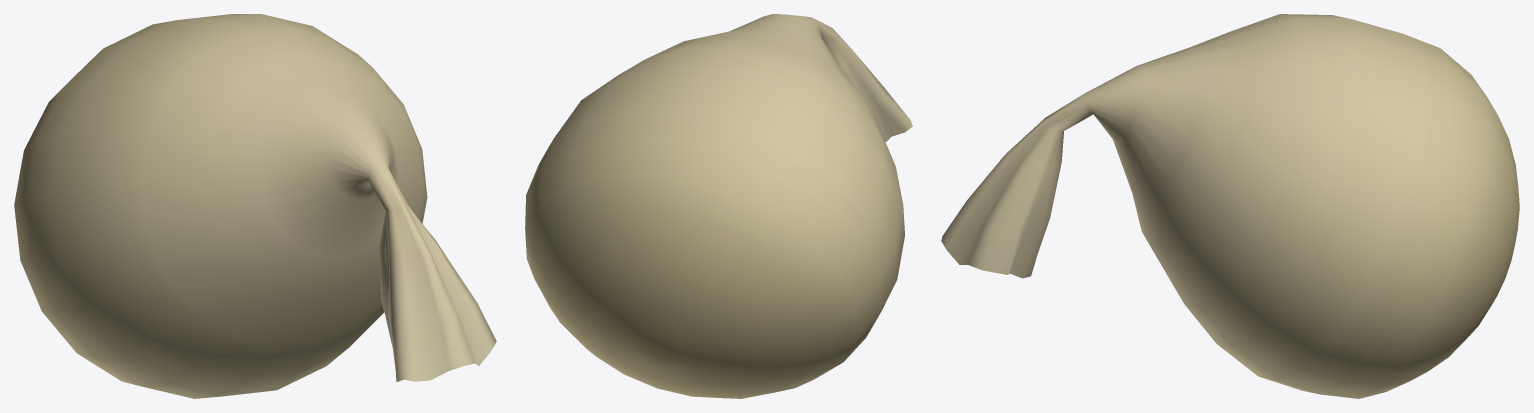
Rendered from bag01.fbx.
The picture shows the model from 3 angles, left to right: view 1: azimuth 30°, elevation 25°; view 2: azimuth 150°, elevation 25°; view 3: azimuth 270°, elevation 25°; orthographic projection. The views are drawn at different scales.
Parts seen in each view (by area): view 1: bag1; view 2: bag1; view 3: bag1.
Part boxes in pixels (box(x1,y1,x2,y2)): bag1: box(14, 14, 496, 398); bag1: box(525, 14, 912, 398); bag1: box(941, 14, 1519, 398).
Bounding box in the file's own units: 166 × 154 × 234.
